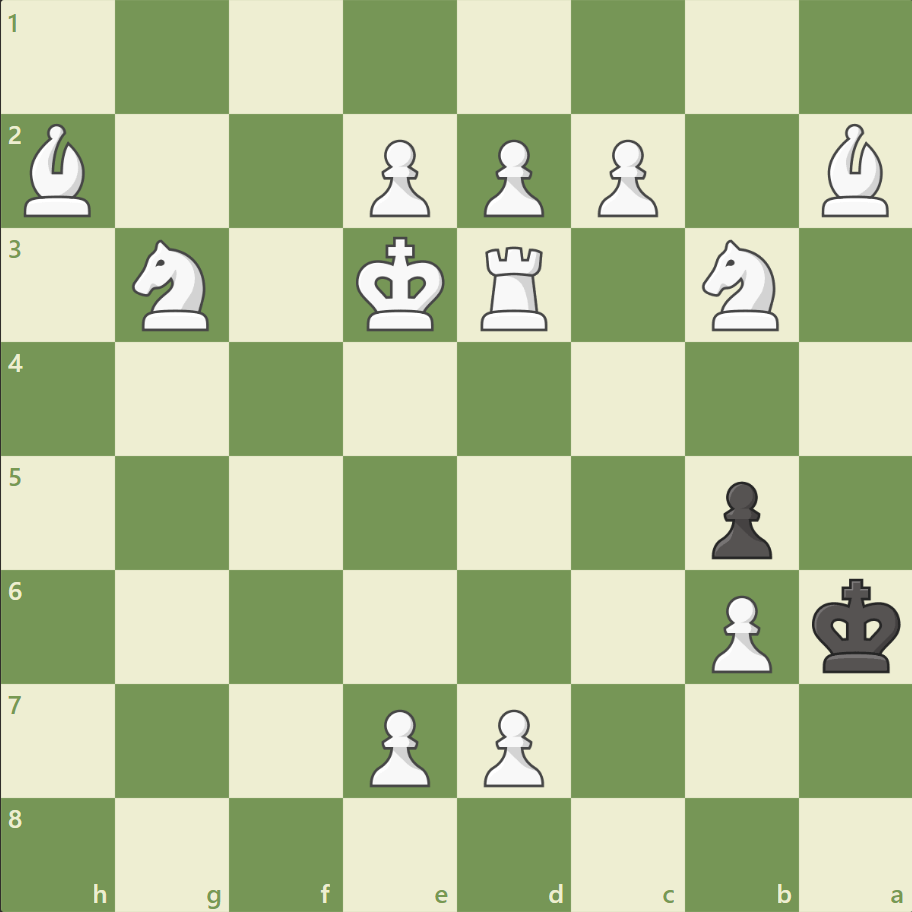B: (812, 120, 896, 222), (17, 120, 101, 222)
K: (351, 231, 451, 339)
N: (124, 234, 222, 337), (692, 234, 789, 337)
P: (474, 700, 549, 791), (701, 586, 776, 677), (474, 132, 549, 223), (361, 700, 435, 791), (588, 132, 662, 223), (361, 132, 435, 223)
R: (473, 239, 556, 336)
k: (806, 571, 906, 679)
p: (701, 473, 776, 564)
